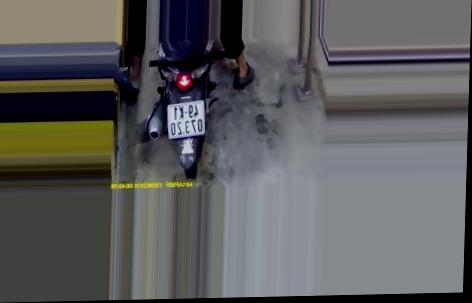License_Plate: (165, 97, 214, 140)
